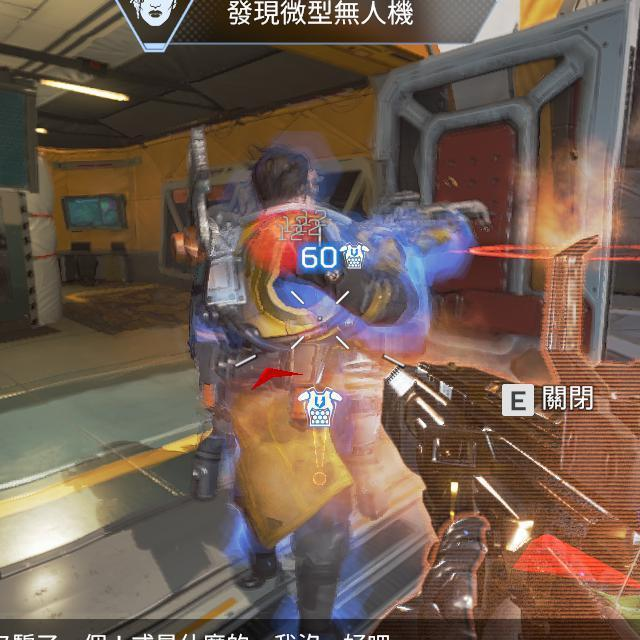avatar: (184, 146, 417, 617)
